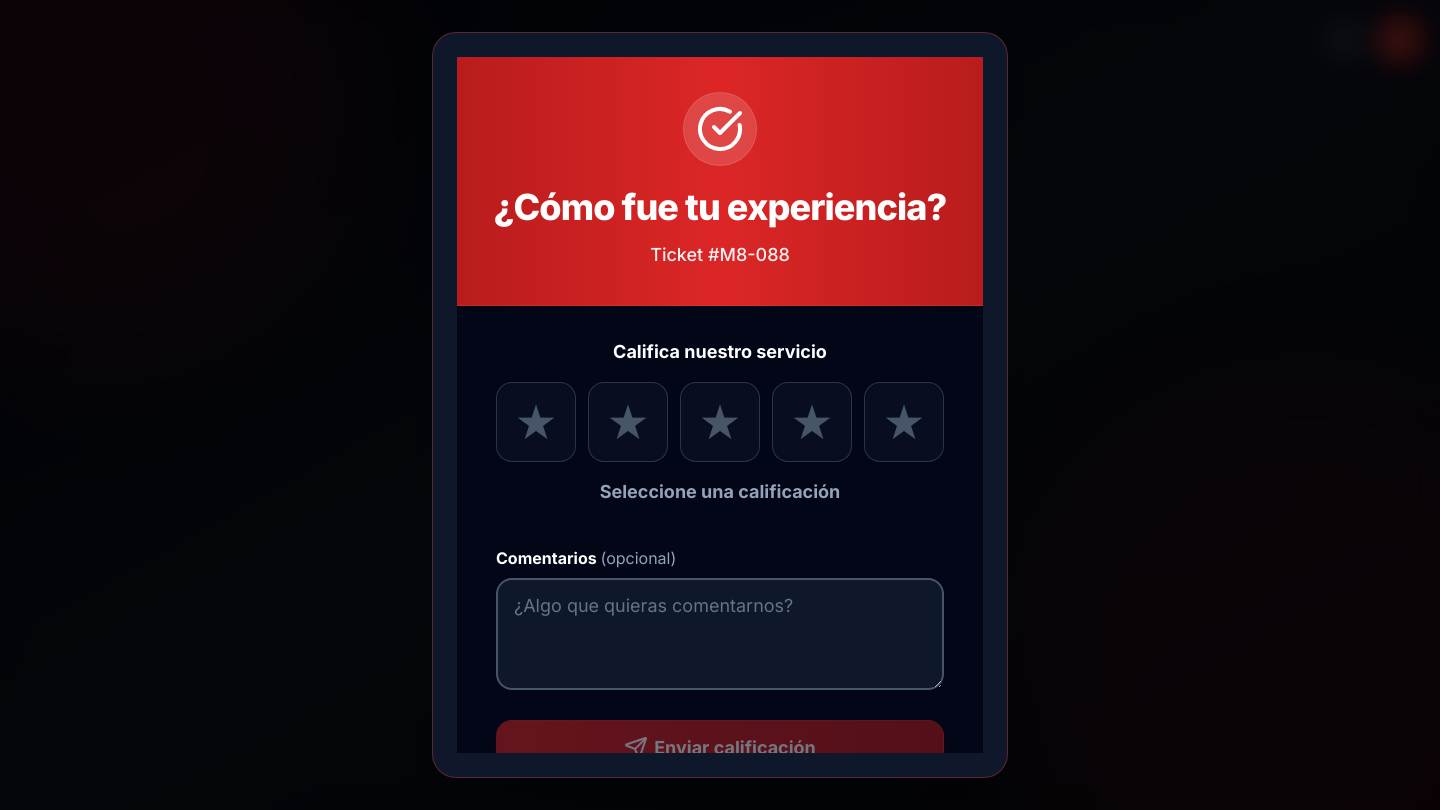
it: tablet de calificación vinculada › escucha su módulo y muestra un único mensaje para el ticket completado
This screenshot has width=1440, height=810.
Check: the number of headings "¿Cómo fue tu experiencia?" is 1, box [489, 187, 951, 227]
Check: the text "Ticket #M8-088" is shown once, box [650, 244, 790, 265]
What coordinates should you click on to do the following:
click the button named "5 de 5 estrellas"
I would click on:
 (904, 422)
Its box is [864, 382, 944, 462].
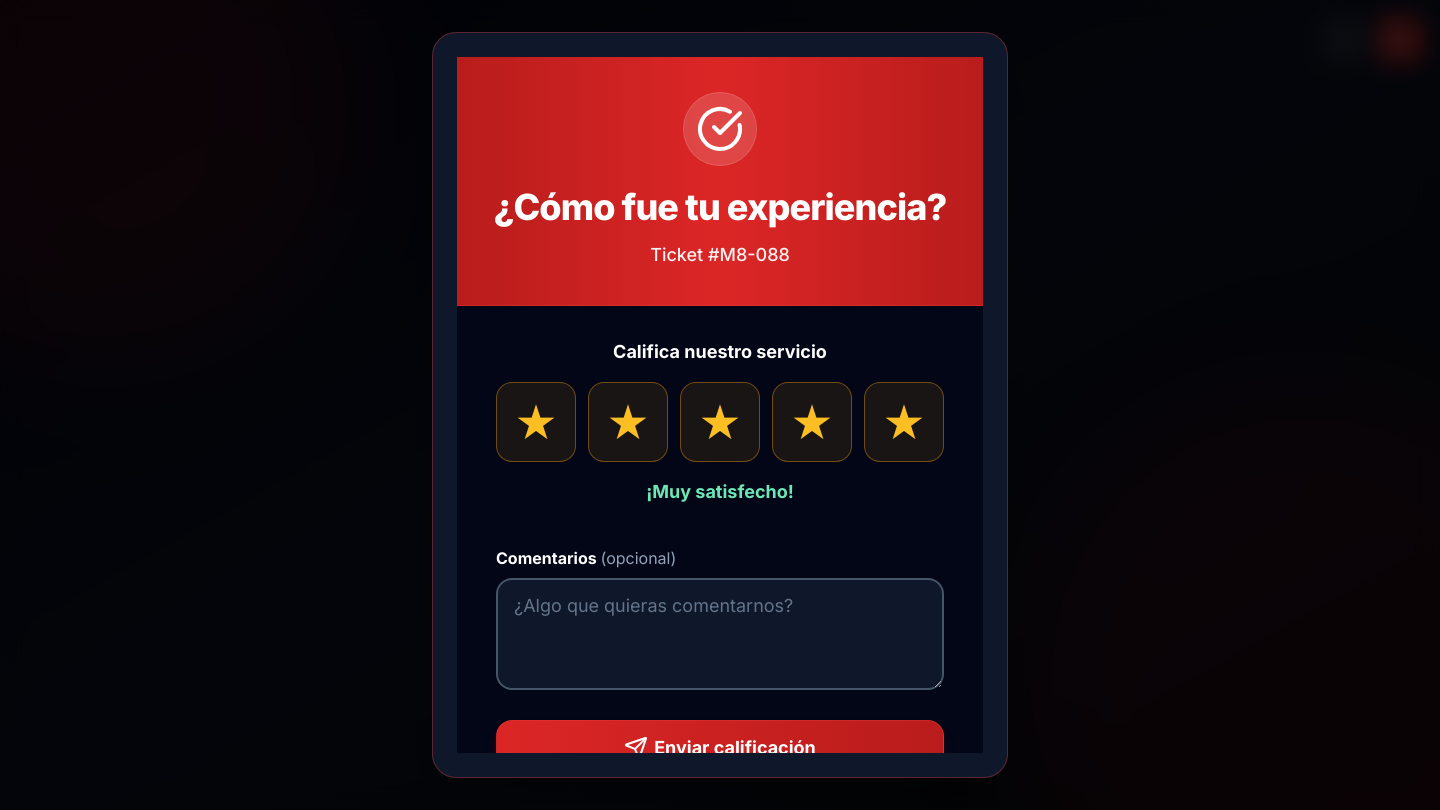
Check: the number of headings "¿Cómo fue tu experiencia?" is 1, box [489, 187, 951, 227]
Check: the text "¡Muy satisfecho!" is shown, box [646, 481, 794, 502]
